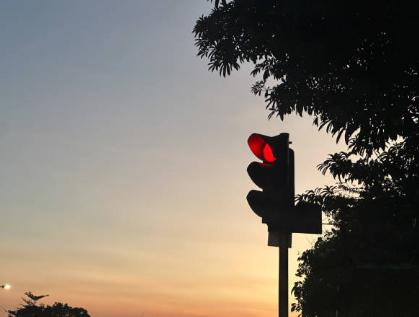red_light: (247, 131, 289, 224)
